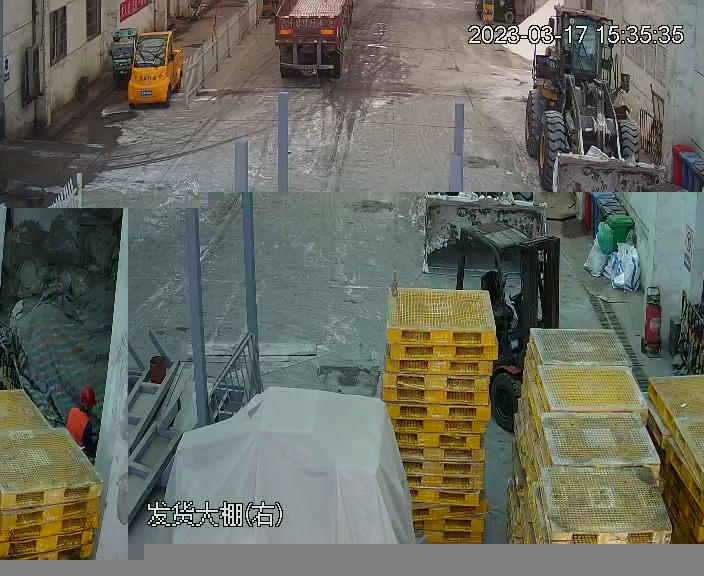truck: (269, 0, 358, 79)
